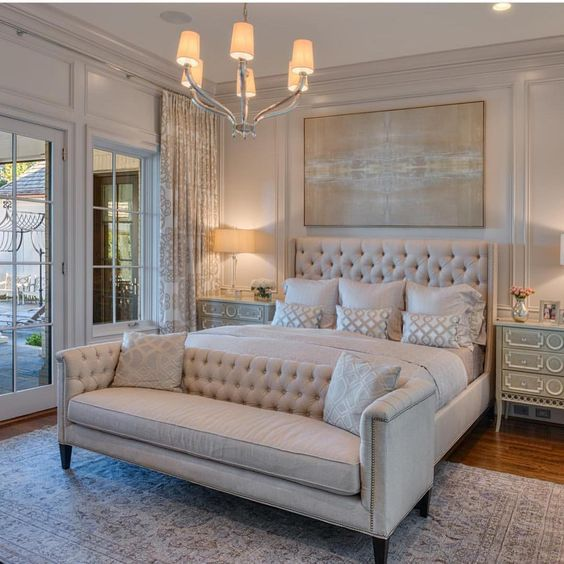chairs: (53, 326, 441, 564)
